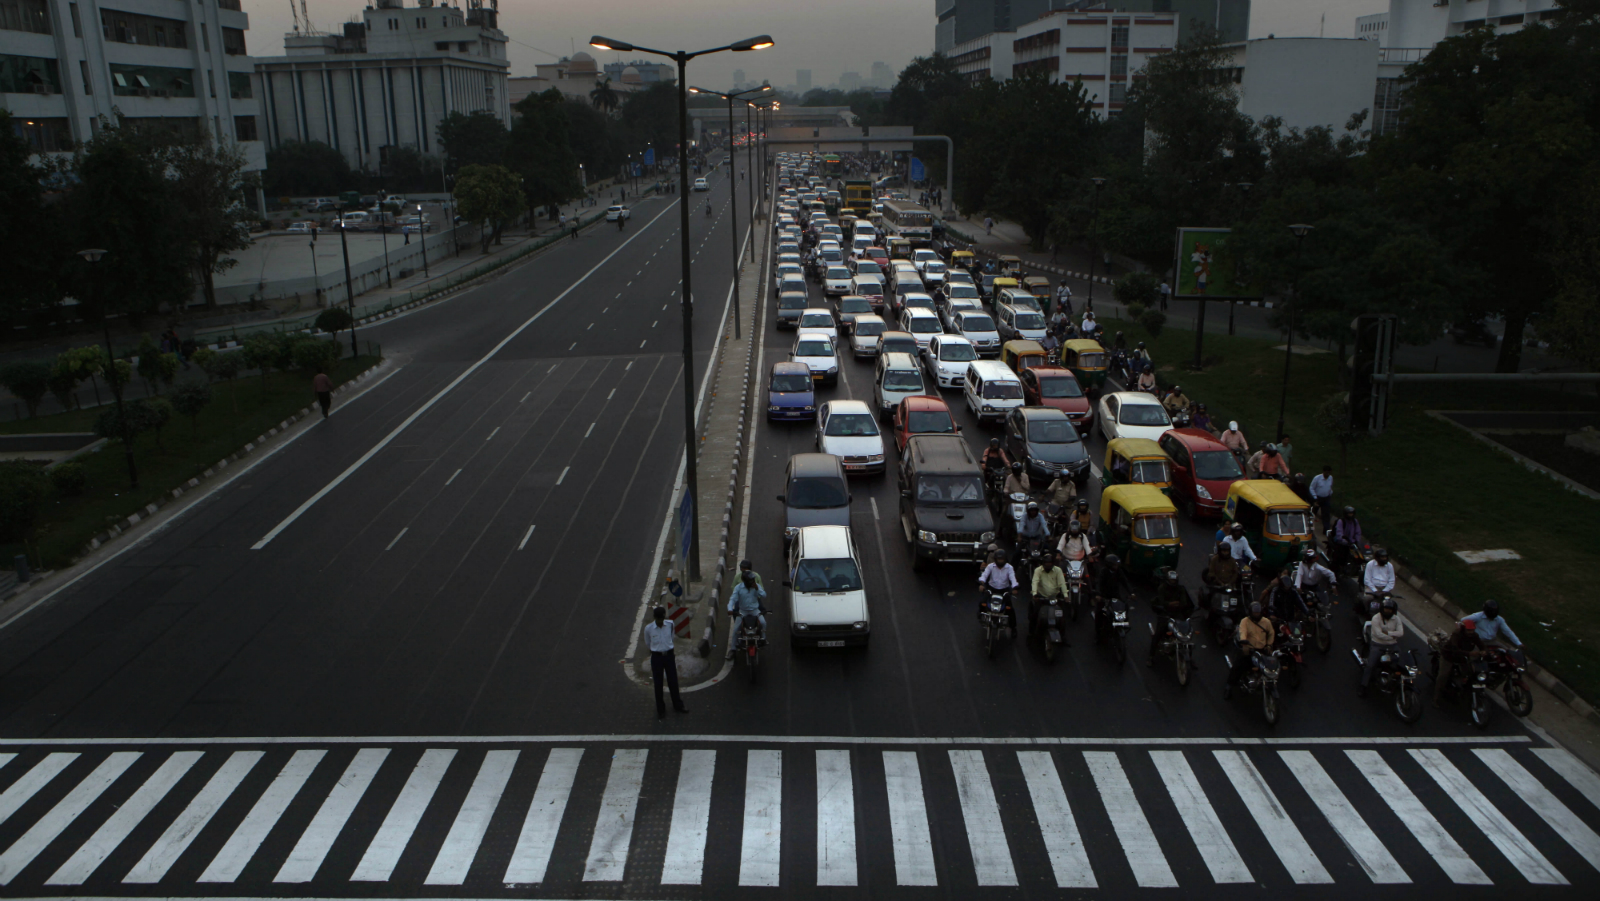Bike: (716, 560, 776, 677), (973, 589, 1016, 664)
Car: (780, 531, 876, 660)
